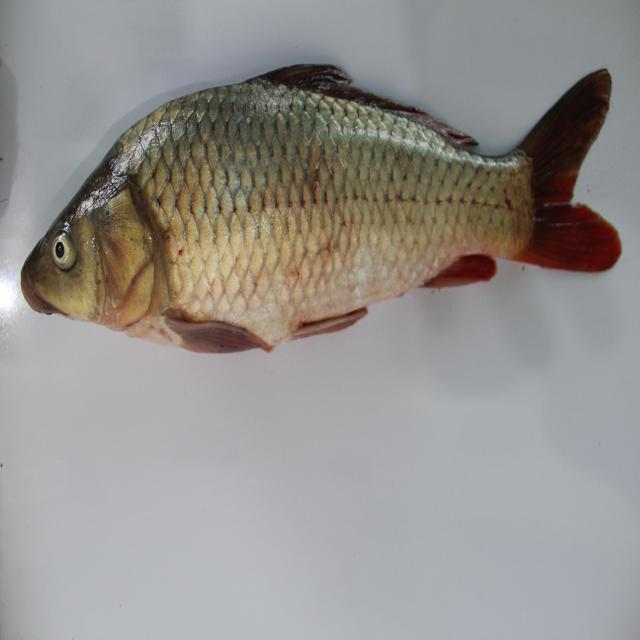CommonCarp: (18, 55, 632, 368)
